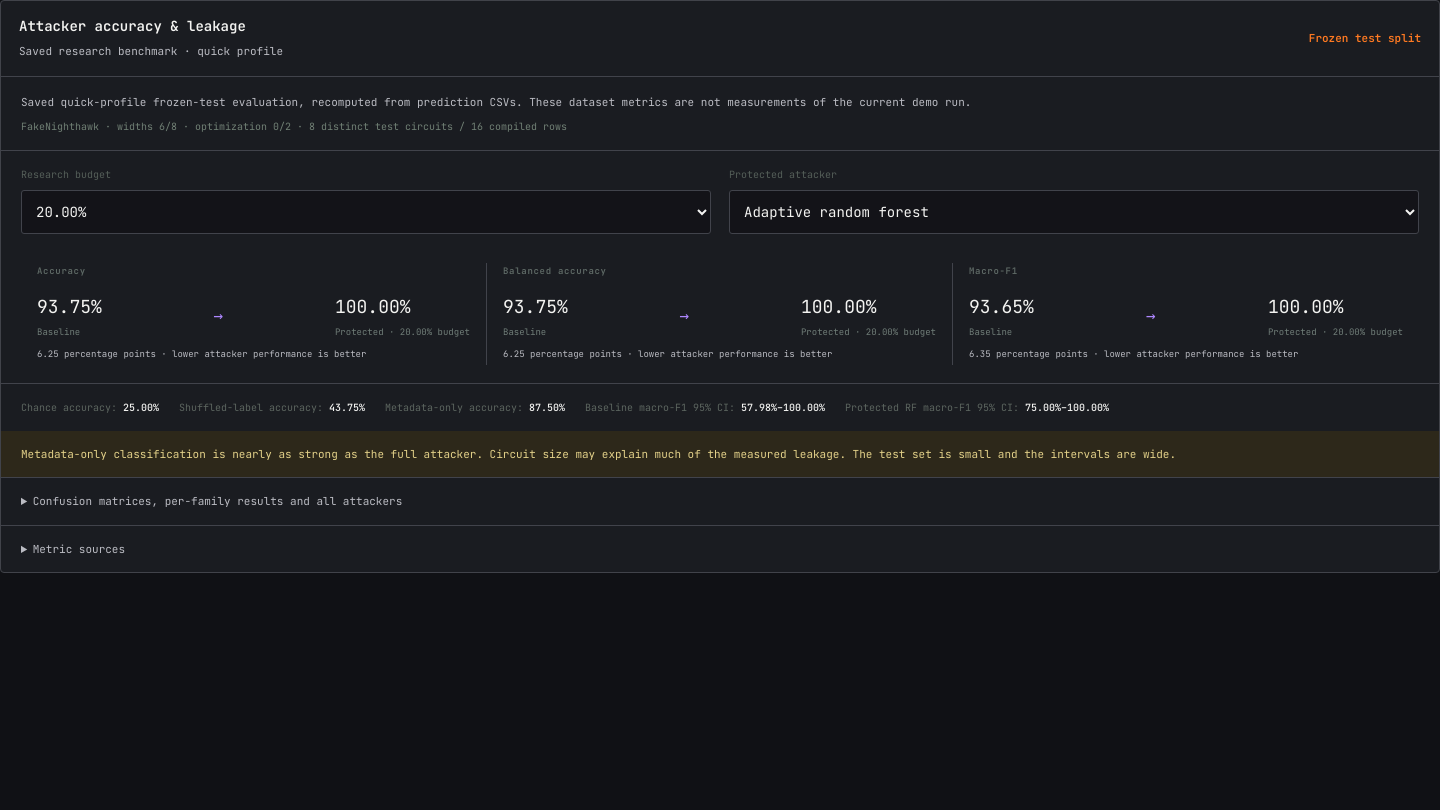
Test: shows dataset metrics, changes budget and attacker, and opens confusion matrices
Expected: the text "Chance accuracy: 25.00%" is shown, [21,400,159,415]
Expected: the text "8 distinct test circuits / 16 compiled rows" is shown, [21,120,567,133]
Select "50.00%" in the dropdown labelled "Research budget" at (366, 212), box [21,190,711,234]
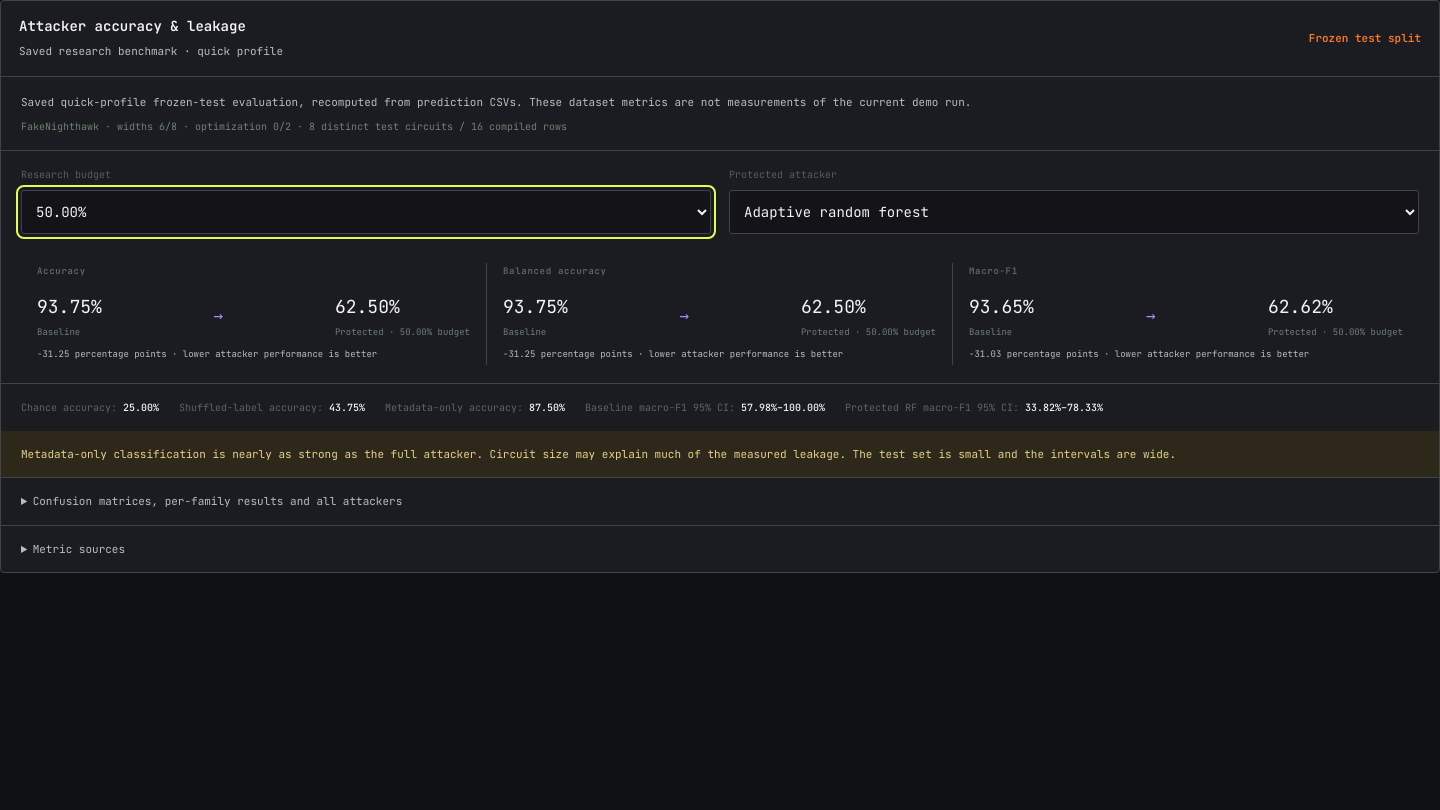
Select "Normalization-aware random forest" in the dropdown labelled "Protected attacker" at (1074, 212), box [729,190,1419,234]
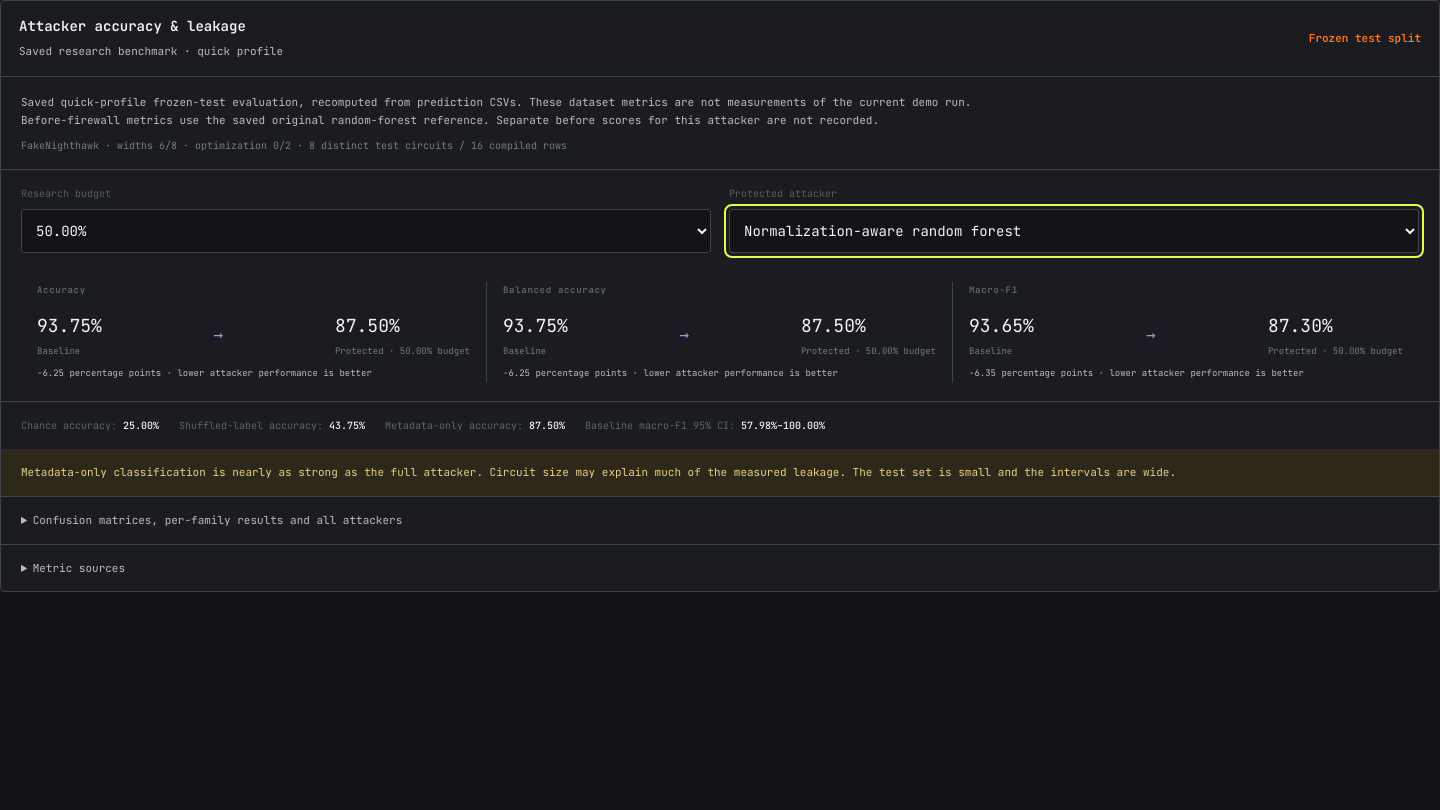
Click the heading "Confusion matrices, per-family results and all attackers" at (217, 520), box [33,513,402,527]
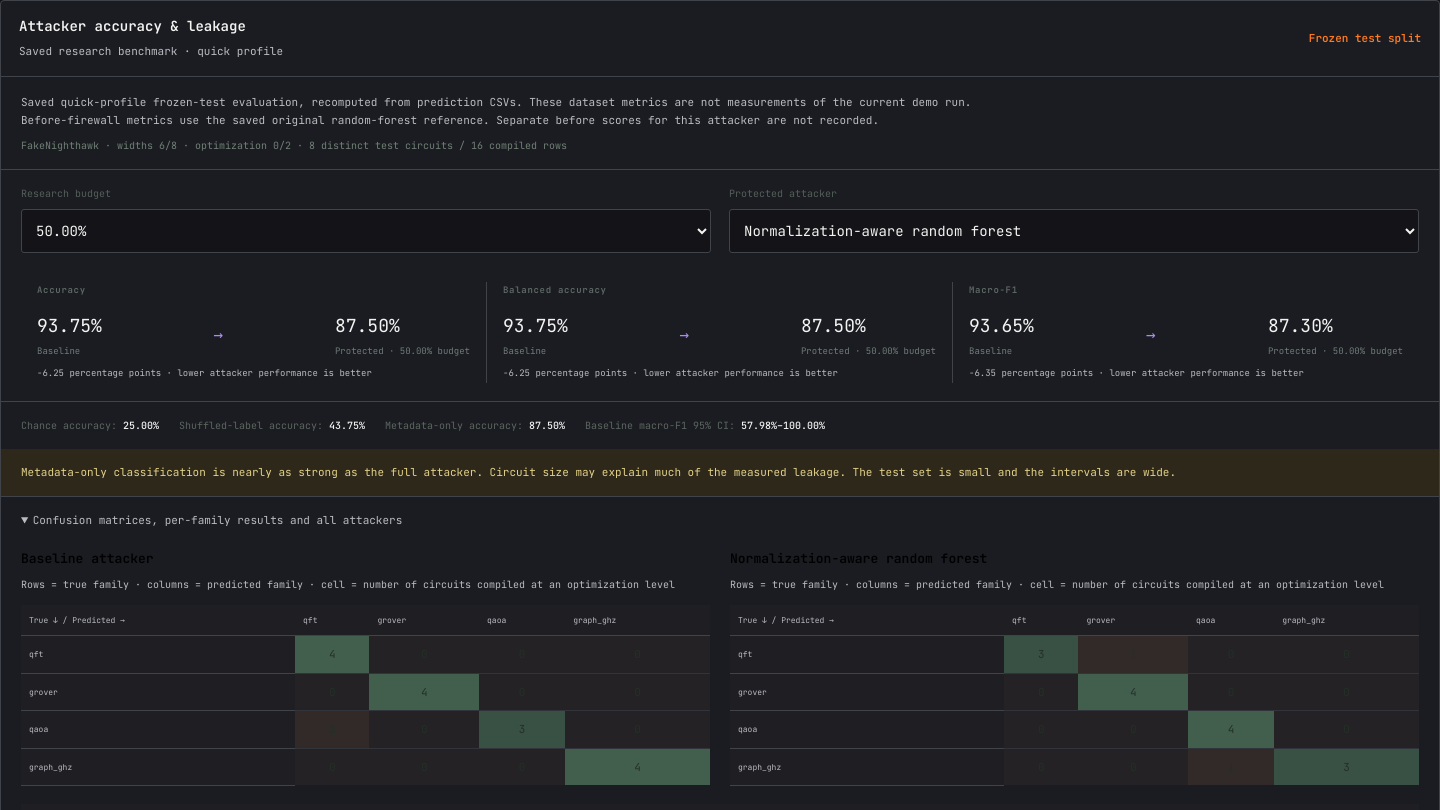
Expected: the text "Metadata-only classification is nearly as strong" is shown, [21,465,1176,479]
Result: the heading "Baseline attacker" is shown at [21,550,154,566]
Result: the heading "Normalization-aware random forest" is shown at [730,550,987,566]
